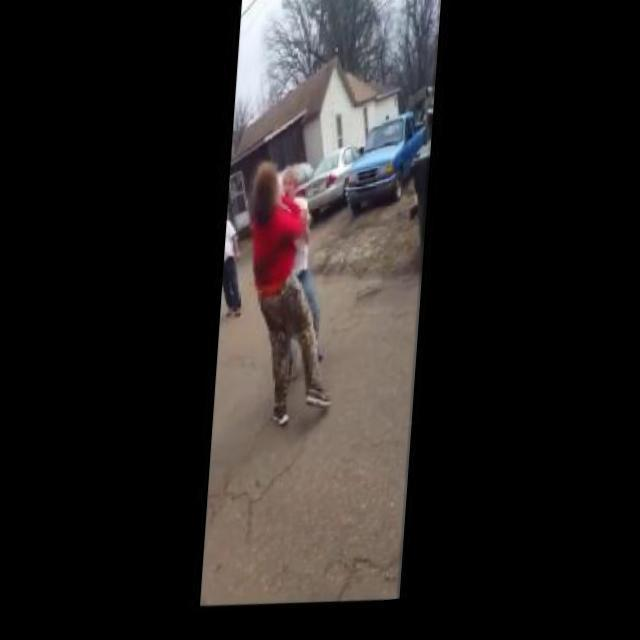fight: (232, 158, 354, 453)
